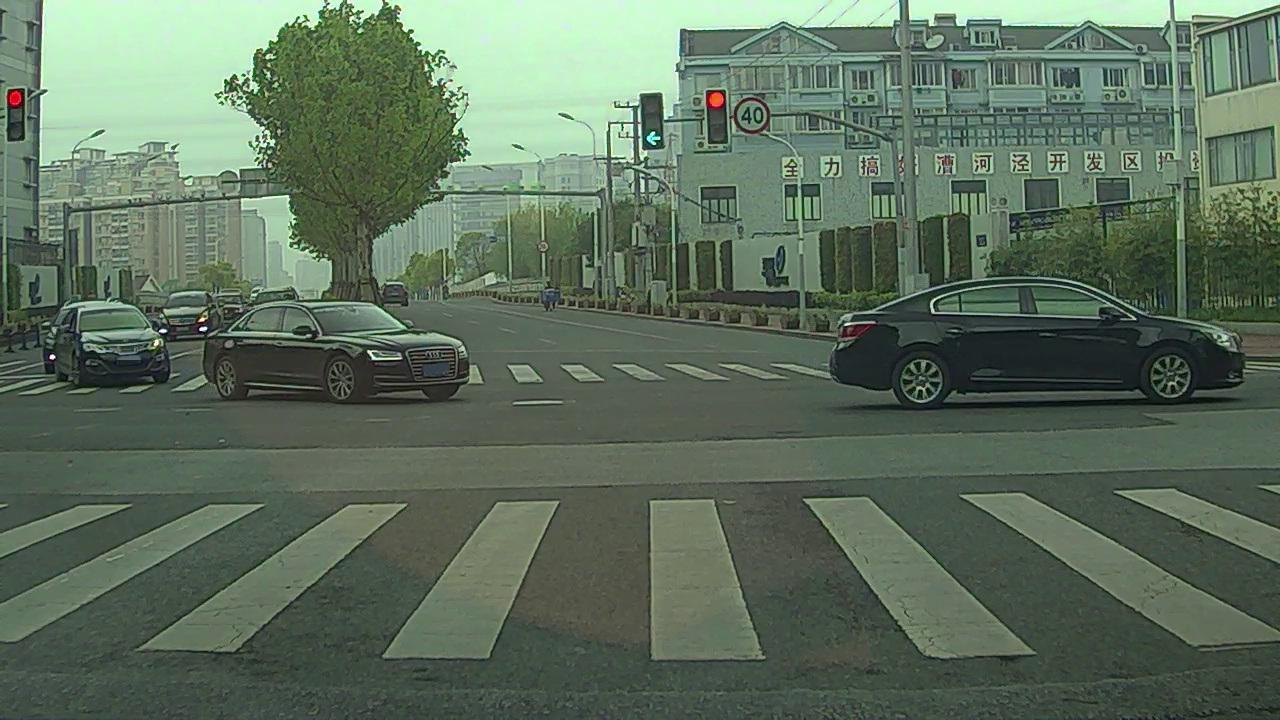traffic_light: (641, 94, 663, 150), (707, 87, 728, 143), (7, 88, 23, 141)
